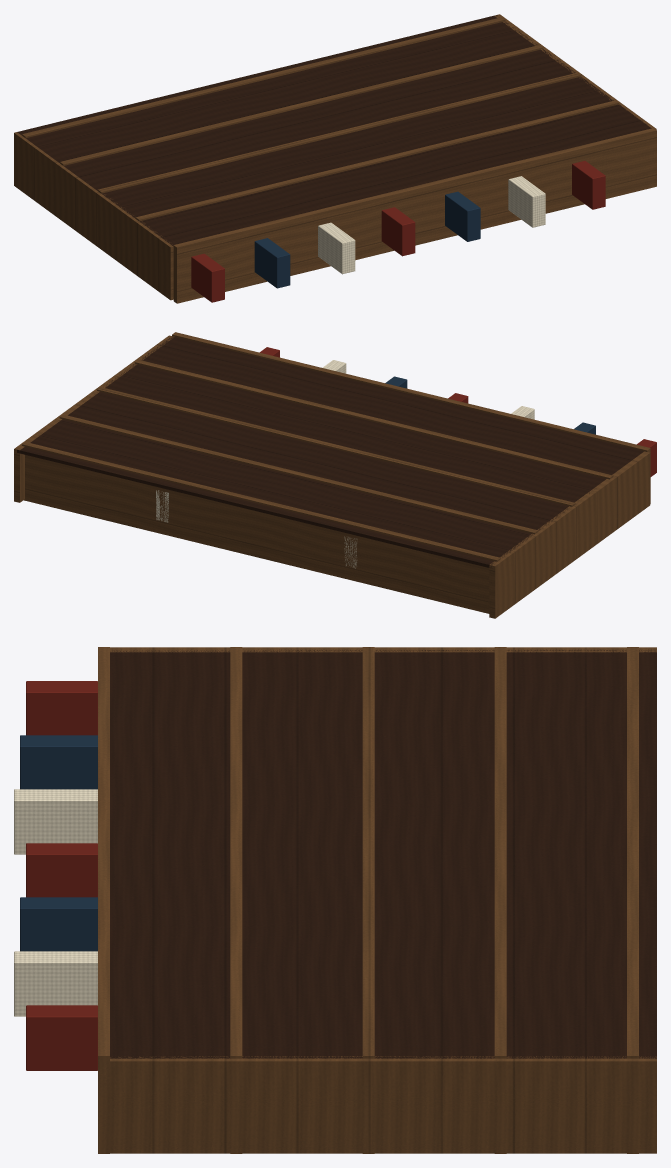
The model's file is family_bookcase.obj.
3 renders of one model, top to bottom at view 1: azimuth 30°, elevation 25°; view 2: azimuth 150°, elevation 25°; view 3: azimuth 270°, elevation 25°, orthographic. The views are drawn at different scales.
Visible parts, largest first — view 1: family_bookcase_walnut, family_bookcase_oak, family_bookcase_bookred, family_bookcase_linen, family_bookcase_bookblue; view 2: family_bookcase_walnut, family_bookcase_oak, family_bookcase_linen, family_bookcase_bookred; view 3: family_bookcase_walnut, family_bookcase_oak, family_bookcase_bookred, family_bookcase_linen, family_bookcase_bookblue.
Boxes of the visible parts, left/top/right/bottom form: family_bookcase_walnut: left=17, top=15, right=651, bottom=246; family_bookcase_oak: left=14, top=14, right=656, bottom=303; family_bookcase_bookred: left=191, top=161, right=605, bottom=302; family_bookcase_linen: left=318, top=176, right=545, bottom=274; family_bookcase_bookblue: left=254, top=191, right=480, bottom=288; family_bookcase_walnut: left=17, top=336, right=643, bottom=567; family_bookcase_oak: left=14, top=332, right=650, bottom=618; family_bookcase_linen: left=156, top=360, right=534, bottom=568; family_bookcase_bookred: left=259, top=347, right=656, bottom=476; family_bookcase_walnut: left=110, top=649, right=656, bottom=1058; family_bookcase_oak: left=98, top=647, right=656, bottom=1153; family_bookcase_bookred: left=26, top=681, right=97, bottom=1070; family_bookcase_linen: left=14, top=789, right=97, bottom=1016; family_bookcase_bookblue: left=20, top=735, right=97, bottom=951.
Size of the model in its own units: 163 by 18 by 107.
Materials: 5 (5 with a texture image).
